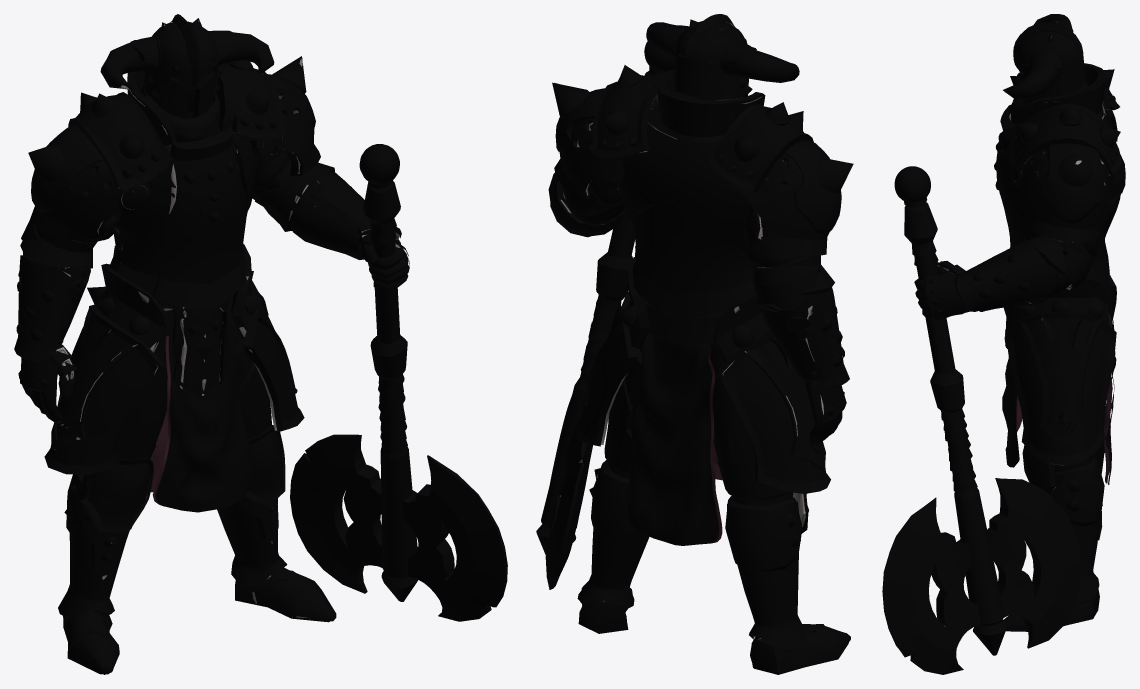
Rendered from bulky_knight.glb.
3 views of the same model, side by side, from view 1: azimuth 30°, elevation 25°; view 2: azimuth 150°, elevation 25°; view 3: azimuth 270°, elevation 25° (orthographic). The views are drawn at different scales.
Parts seen in each view (by area): view 1: pasted__Armour_LP_surfaceShader1_0, pasted__Axe_LP_surfaceShader2_0, Armour_LP_lambert8_0, Armour_LP_lambert9_0; view 2: pasted__Armour_LP_surfaceShader1_0, pasted__Axe_LP_surfaceShader2_0, Armour_LP_lambert8_0, Armour_LP_lambert9_0; view 3: pasted__Armour_LP_surfaceShader1_0, pasted__Axe_LP_surfaceShader2_0, Armour_LP_lambert9_0.
Boxes of the visible parts, x1=… form: pasted__Armour_LP_surfaceShader1_0: x1=14, y1=14, x2=409, y2=674; pasted__Axe_LP_surfaceShader2_0: x1=290, y1=144, x2=507, y2=621; Armour_LP_lambert8_0: x1=54, y1=20, x2=400, y2=618; Armour_LP_lambert9_0: x1=58, y1=261, x2=401, y2=505; pasted__Armour_LP_surfaceShader1_0: x1=548, y1=14, x2=853, y2=674; pasted__Axe_LP_surfaceShader2_0: x1=536, y1=41, x2=674, y2=589; Armour_LP_lambert8_0: x1=554, y1=22, x2=824, y2=639; Armour_LP_lambert9_0: x1=702, y1=344, x2=722, y2=544; pasted__Armour_LP_surfaceShader1_0: x1=914, y1=14, x2=1125, y2=631; pasted__Axe_LP_surfaceShader2_0: x1=882, y1=166, x2=1081, y2=674; Armour_LP_lambert9_0: x1=927, y1=302, x2=1112, y2=483.
Bounding box in the file's own units: 0.0472 × 0.0717 × 0.0284.
5 materials, 3 textured.
